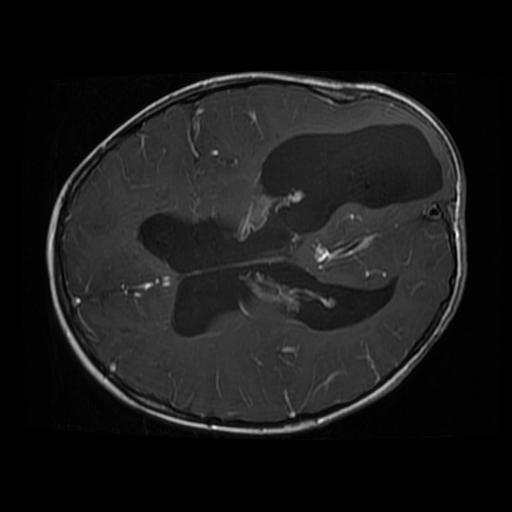glioma: (261, 123, 444, 236)
